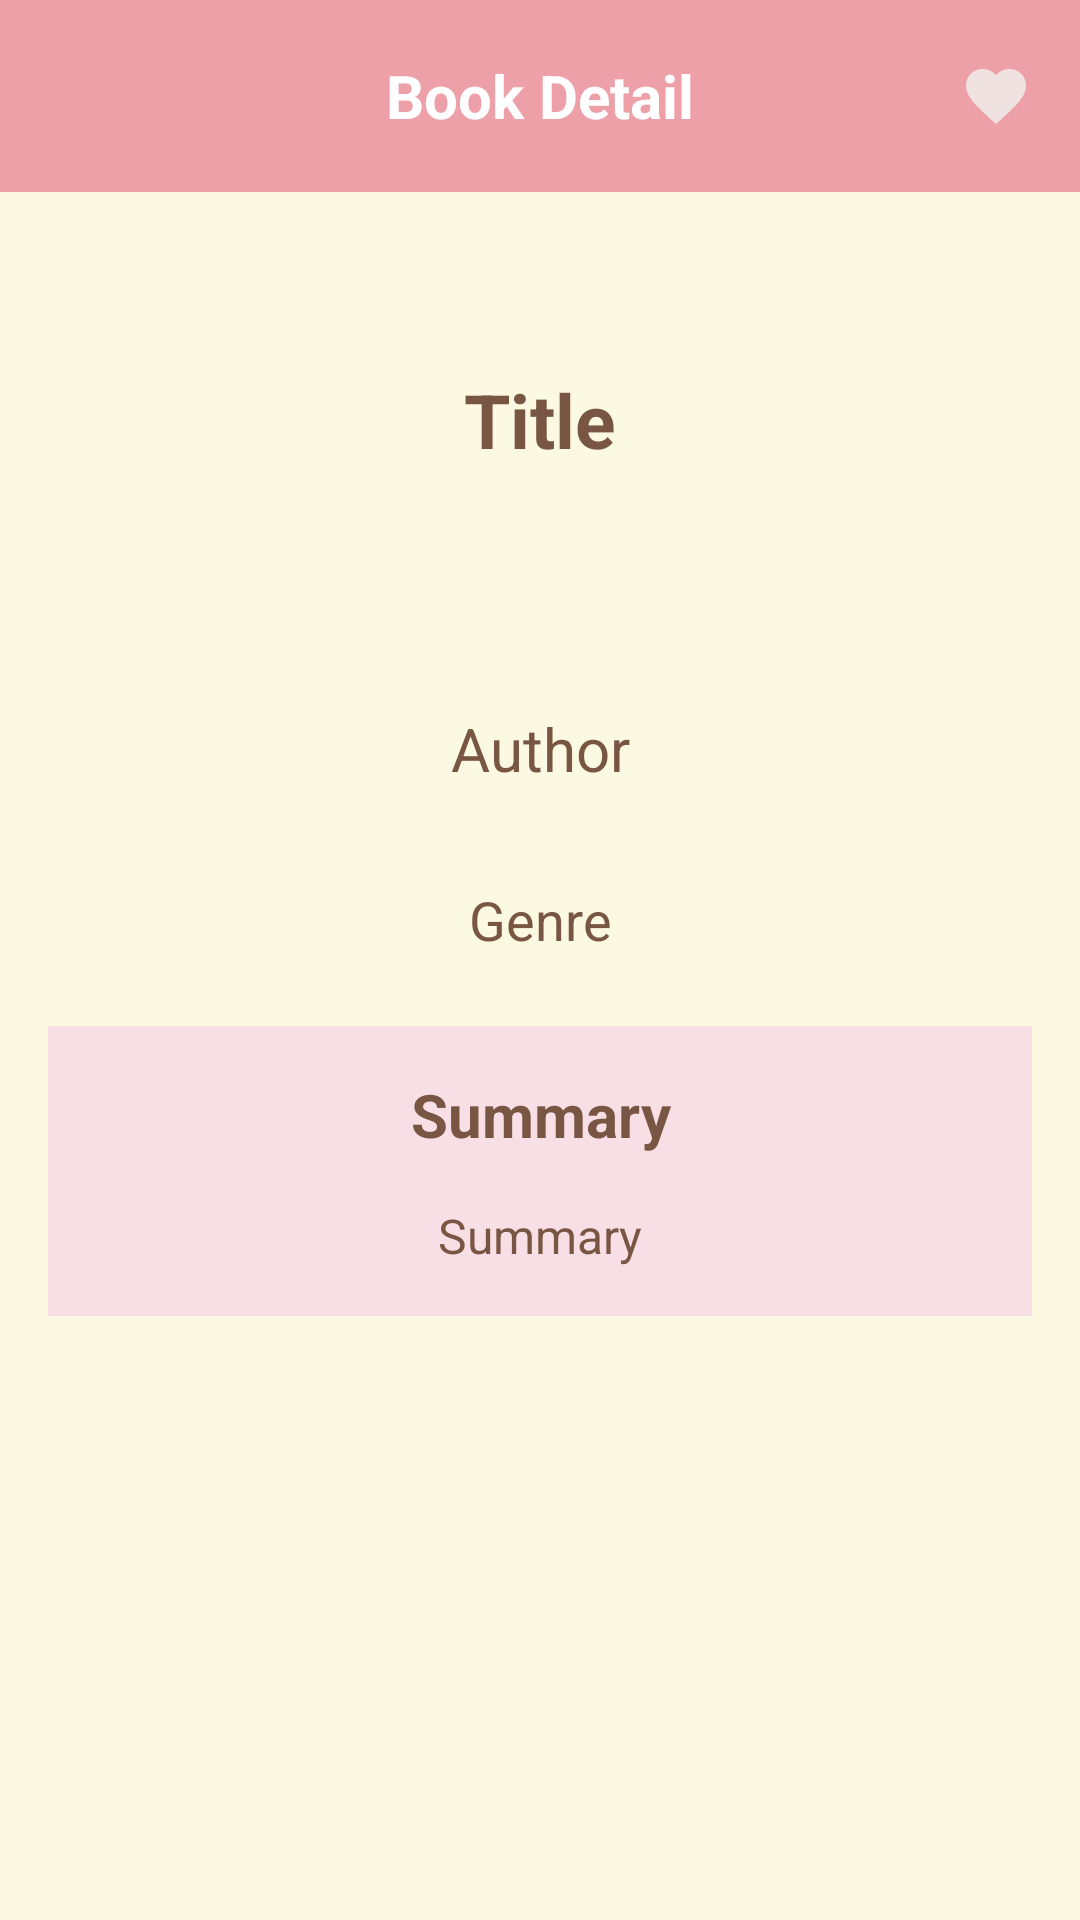

Icon bounding boxes for this 1080*1920 phone screenshot, format {"left": x1, "top": y1, "right": x2, "bottom": y2}:
favorite: {"left": 966, "top": 69, "right": 1026, "bottom": 124}
